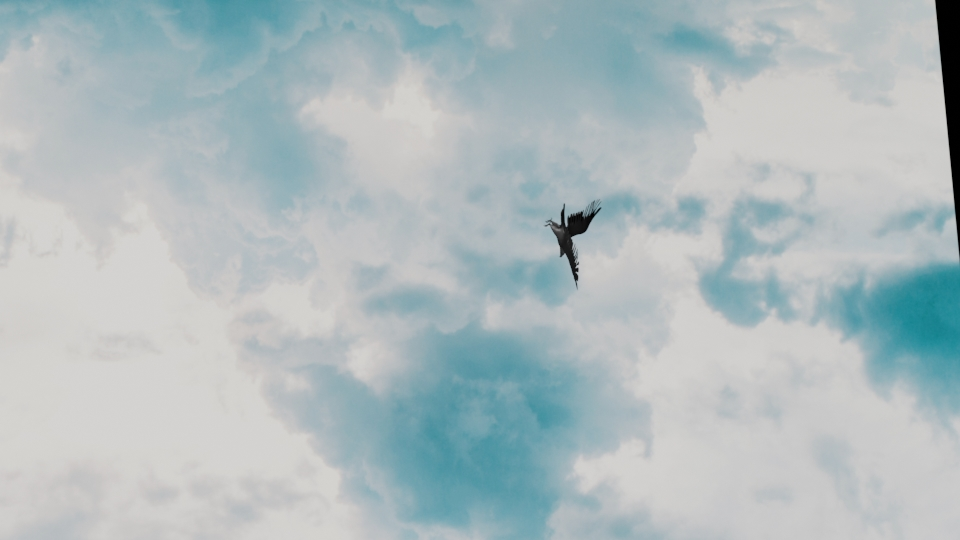bird: (547, 194, 605, 286)
